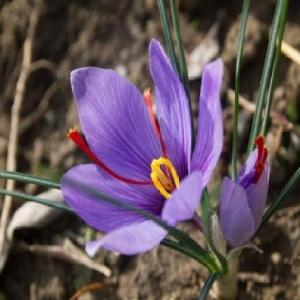Saffron: (65, 41, 224, 254), (212, 143, 271, 255)
